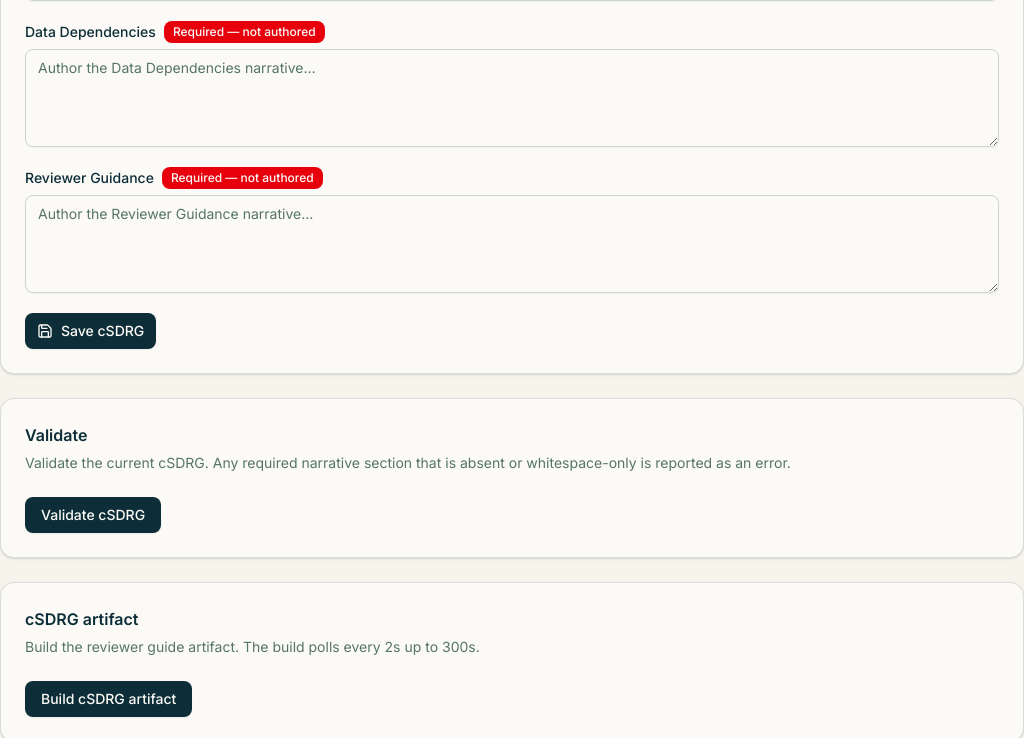
Scenario: CsdrgPanel validate (Req 19.4) › surfaces an absent/whitespace-only required section as an error issue
The image size is (1024, 738).
(page scrolled)
What coordinates should you click on to do the following:
click the button "Validate cSDRG"
I would click on:
 (93, 515)
Its box is [25, 497, 161, 533].
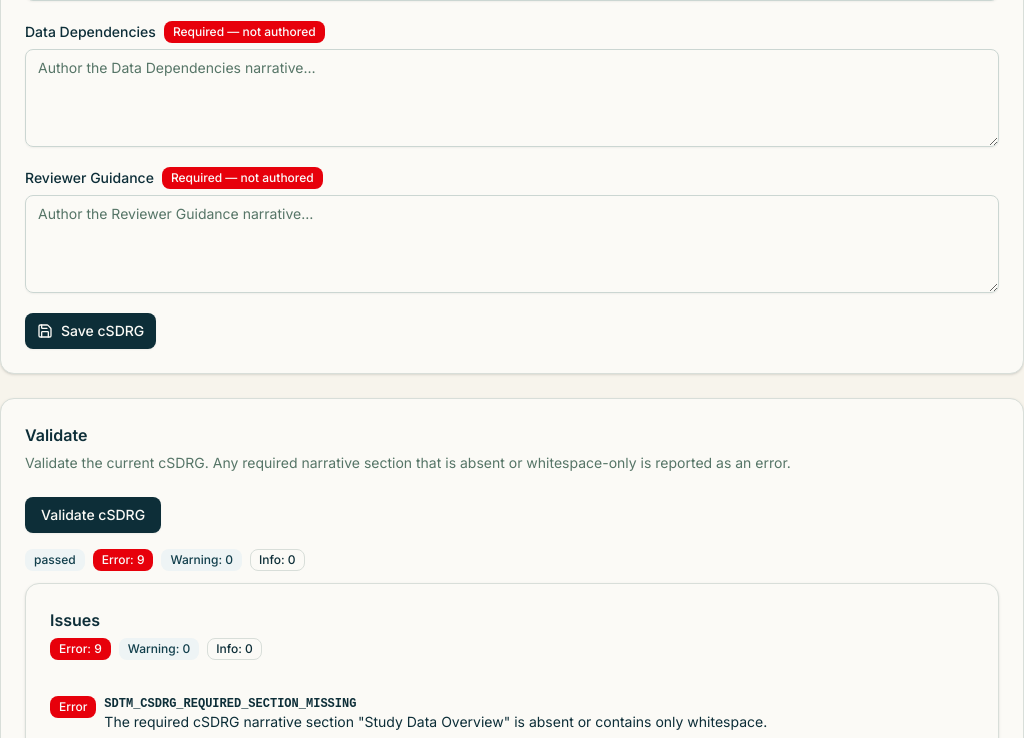
Check: the text "SDTM_CSDRG_REQUIRED_SECTION_MISSING" is shown 9 times
